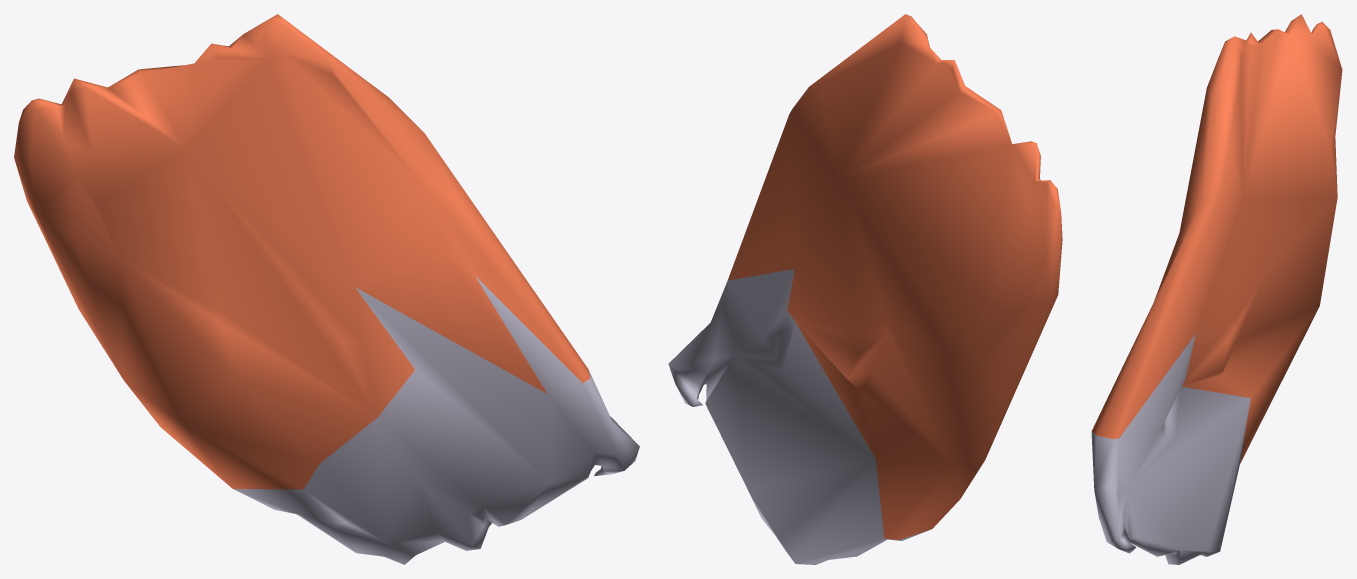
The model's file is Mentalis_muscle.r_Generated_Mesh_From_X3D.349.glb.
3 renders of one model, left to right at view 1: azimuth 30°, elevation 25°; view 2: azimuth 150°, elevation 25°; view 3: azimuth 270°, elevation 25°, orthographic. The views are drawn at different scales.
Parts seen in each view (by area): view 1: Mentalis_muscle.r_Generated_Mesh_From_X3D.349; view 2: Mentalis_muscle.r_Generated_Mesh_From_X3D.349; view 3: Mentalis_muscle.r_Generated_Mesh_From_X3D.349.
Part boxes in pixels (left/top/right/bottom): Mentalis_muscle.r_Generated_Mesh_From_X3D.349: left=14, top=14, right=639, bottom=564; Mentalis_muscle.r_Generated_Mesh_From_X3D.349: left=668, top=14, right=1062, bottom=564; Mentalis_muscle.r_Generated_Mesh_From_X3D.349: left=1091, top=14, right=1342, bottom=564.
Bounding box in the file's own units: 0.0137 × 0.0148 × 0.00707.
